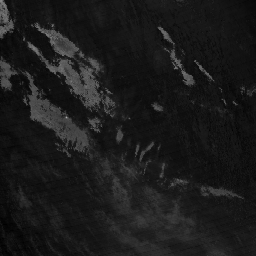Target: (63, 115, 70, 121)
